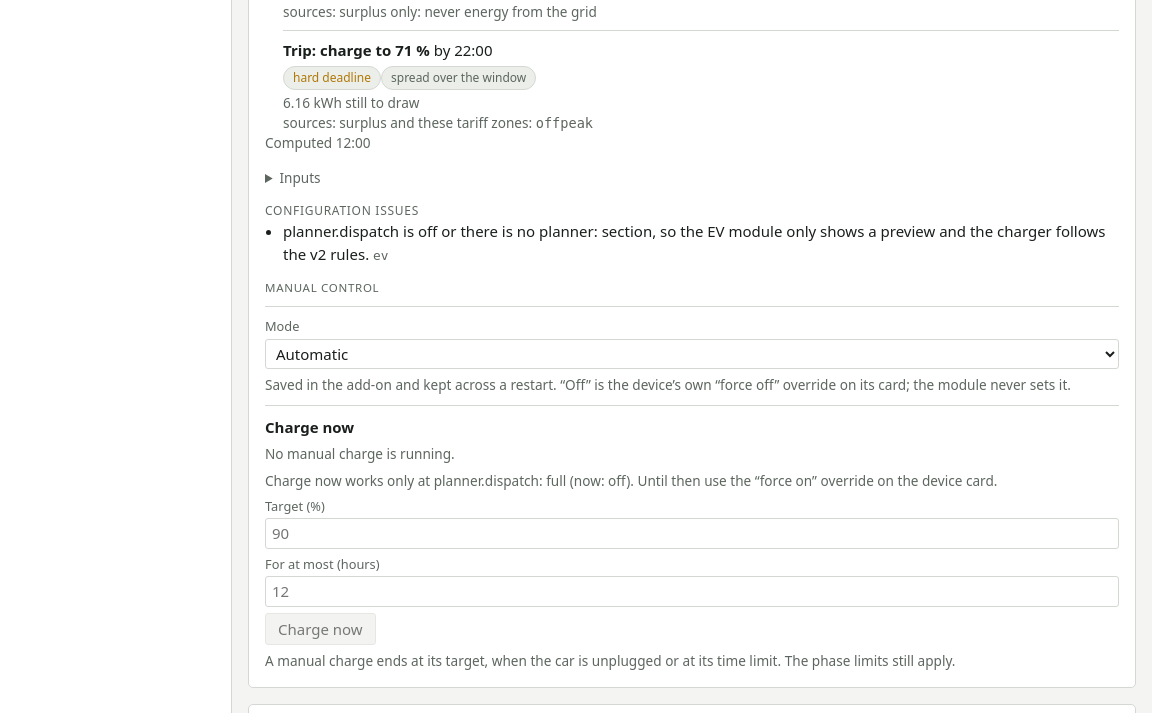
Test: EV card: the manual control (S6) › posts the chosen mode and reads the answer again
(page scrolled)
Select "Full charge" in the dropdown labelled "Mode" at coordinates (692, 354), box top-left (265, 338), bottom-right (1119, 368)
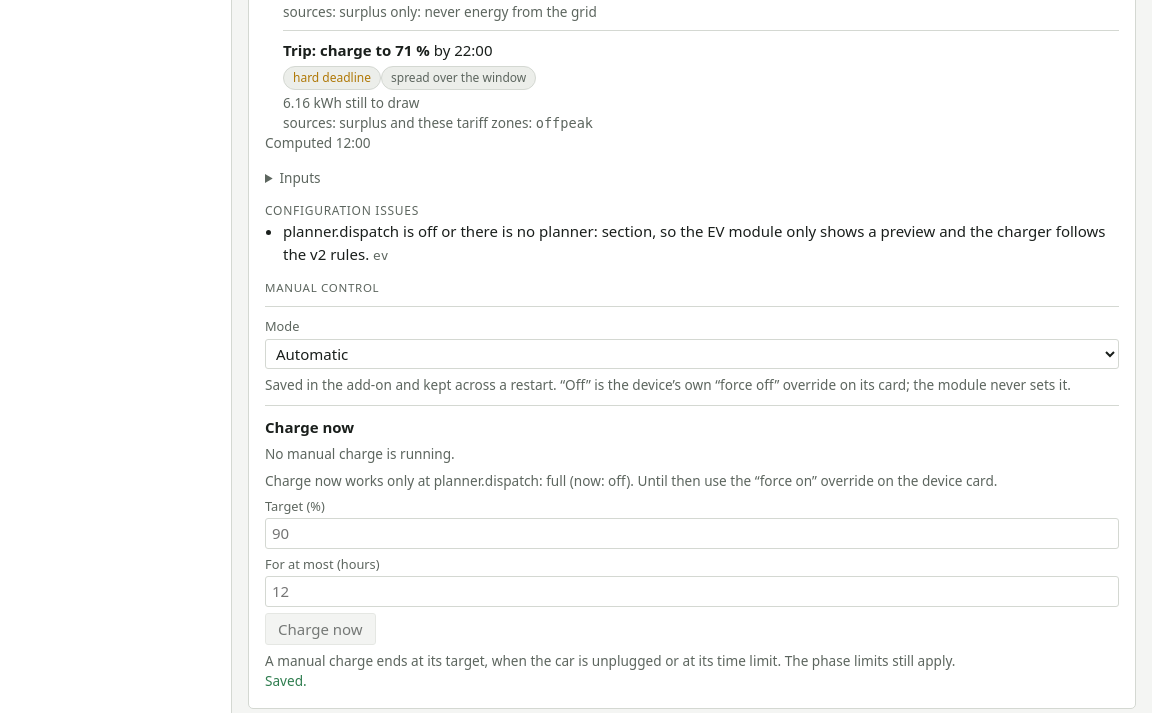
expect the message "Saved." is shown: met, box top-left (265, 672), bottom-right (307, 690)
